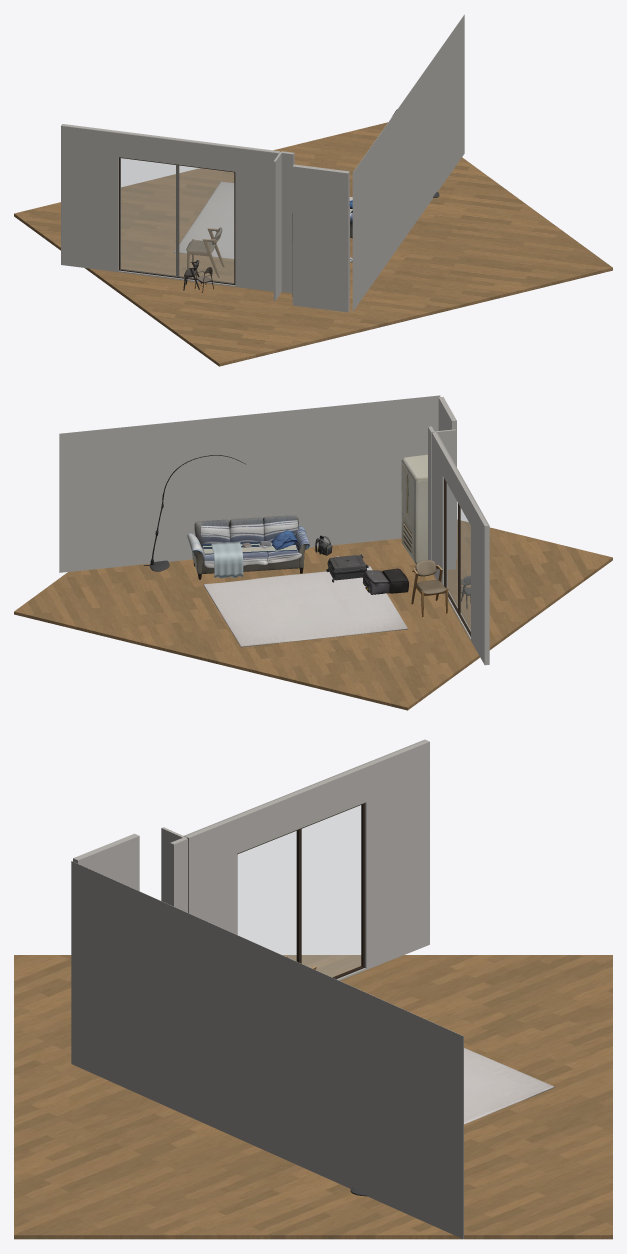
File: living-room.glb
The picture shows the model from 3 angles, top to bottom: view 1: azimuth 30°, elevation 25°; view 2: azimuth 150°, elevation 25°; view 3: azimuth 270°, elevation 25°; orthographic projection. The views are drawn at different scales.
Parts seen in each view (by area): view 1: floor_0, wall_4, wall_0, wall_4_glass, wall_1, obj_rug_0, wall_2, wall_5, obj_chair_1; view 2: wall_0, floor_0, obj_rug_0, wall_4, obj_sofa_0, obj_cabinet_0, wall_4_glass, wall_5, _grase_blanket_1_part_001, obj_suitcase_1, obj_chair_1, obj_suitcase_0 (+4 smaller); view 3: floor_0, wall_0, wall_4, wall_4_glass, obj_rug_0, wall_1, wall_2, wall_4_mullion, wall_5.
Part boxes in pixels (x1,y1,x2,y2): floor_0: (14,122,612,366); wall_4: (61,124,280,291); wall_0: (352,14,464,311); wall_4_glass: (120,158,233,283); wall_1: (292,164,349,312); obj_rug_0: (174,181,352,259); wall_2: (281,151,294,293); wall_5: (273,152,281,300); obj_chair_1: (186,227,224,277); wall_0: (59,395,440,572); floor_0: (14,519,612,710); obj_rug_0: (203,566,407,647); wall_4: (432,432,489,665); obj_sofa_0: (187,515,309,579); obj_cabinet_0: (401,454,427,563); wall_4_glass: (447,484,470,630); wall_5: (433,429,455,569); _grase_blanket_1_part_001: (211,541,243,578); obj_suitcase_1: (362,568,408,594); obj_chair_1: (411,560,448,616); obj_suitcase_0: (326,554,368,582); floor_0: (14,955,612,1239); wall_0: (71,861,463,1239); wall_4: (184,739,429,980); wall_4_glass: (237,805,360,976); obj_rug_0: (464,1048,554,1124); wall_1: (73,833,139,890); wall_2: (170,837,187,912); wall_4_mullion: (296,829,301,963); wall_5: (161,827,187,904).
Size of the model in its own units: 7.63 by 2.48 by 6.5.
30 materials, 28 textured.
